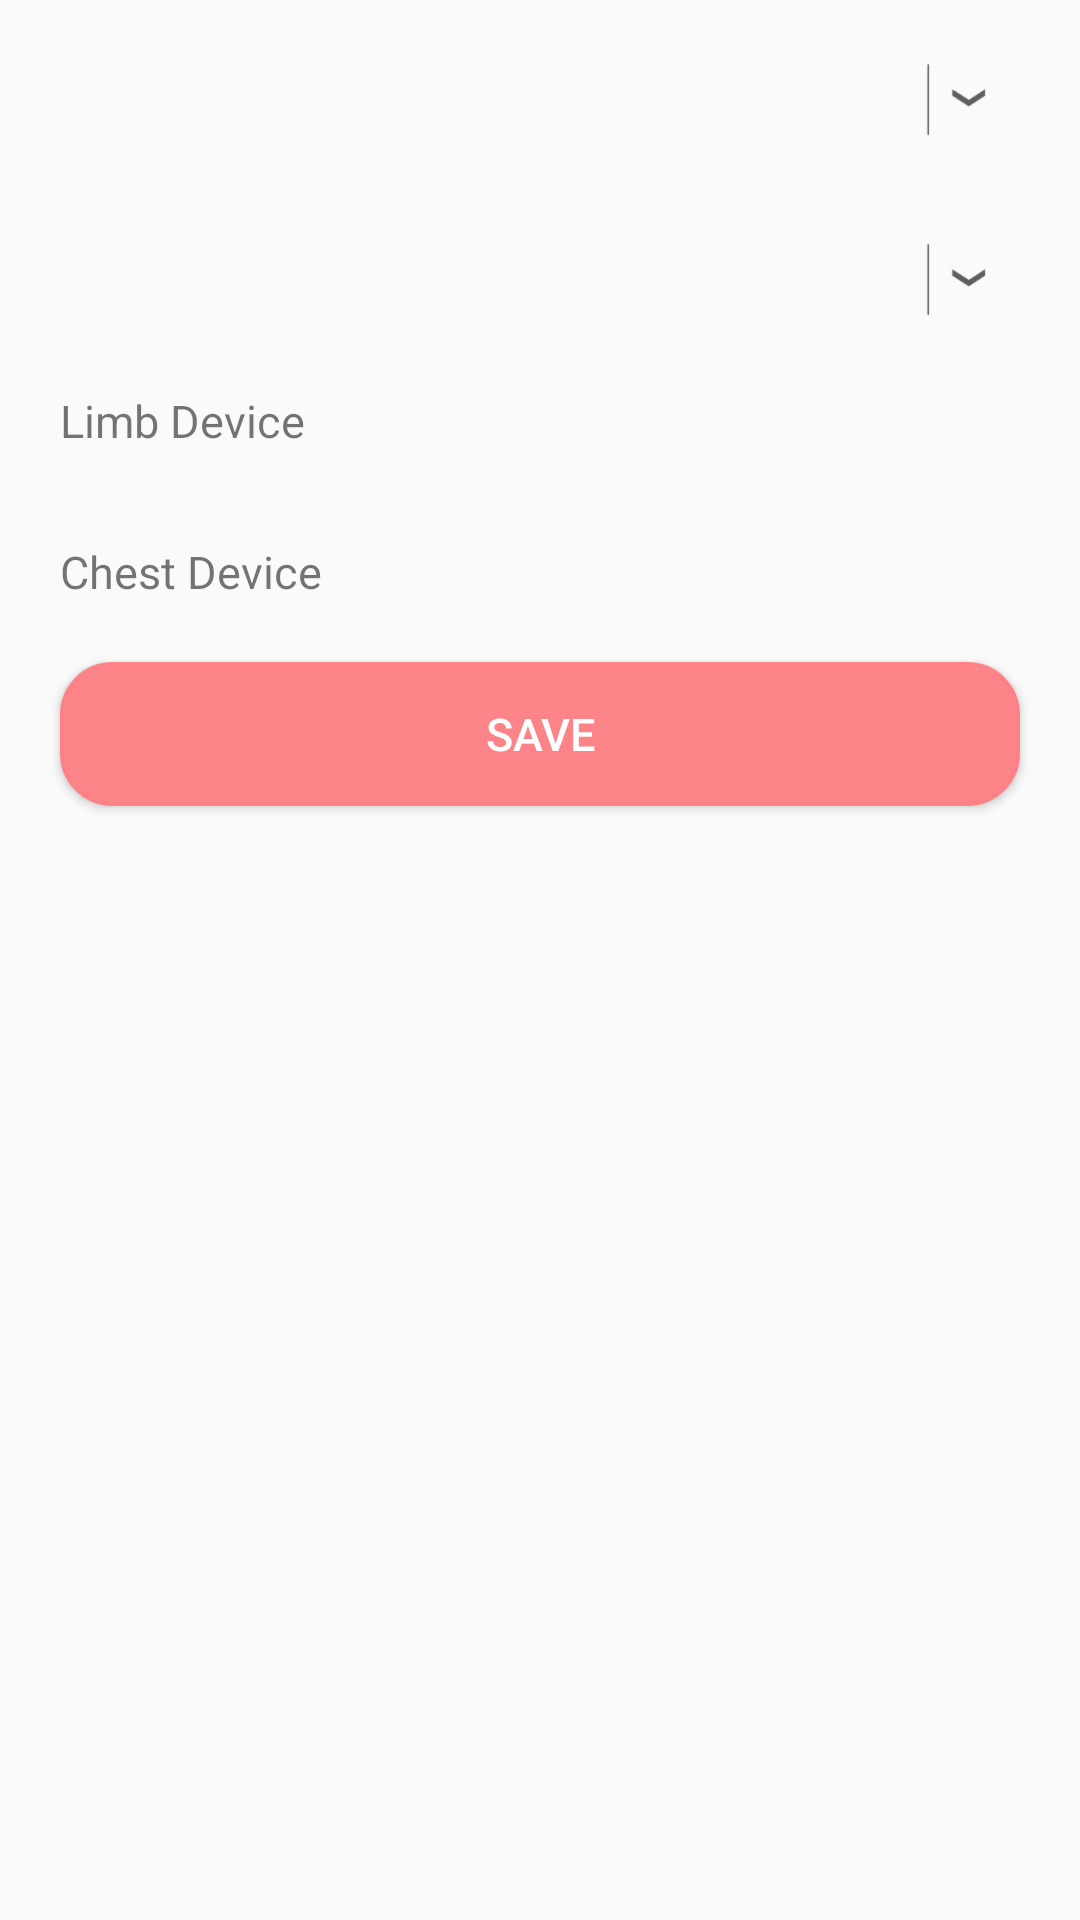

Named icons in this screenshot (1080w x 1920h) and their centers, (x=x, y=y):
spinner drop: (x=956, y=99), (x=956, y=279)
